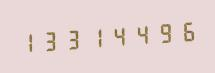four: (127, 18, 148, 50), (105, 20, 126, 51)
nine: (149, 17, 170, 48)
one: (83, 21, 104, 53), (17, 26, 38, 57)
six: (171, 15, 192, 47)
three: (39, 24, 60, 56), (61, 23, 82, 54)
